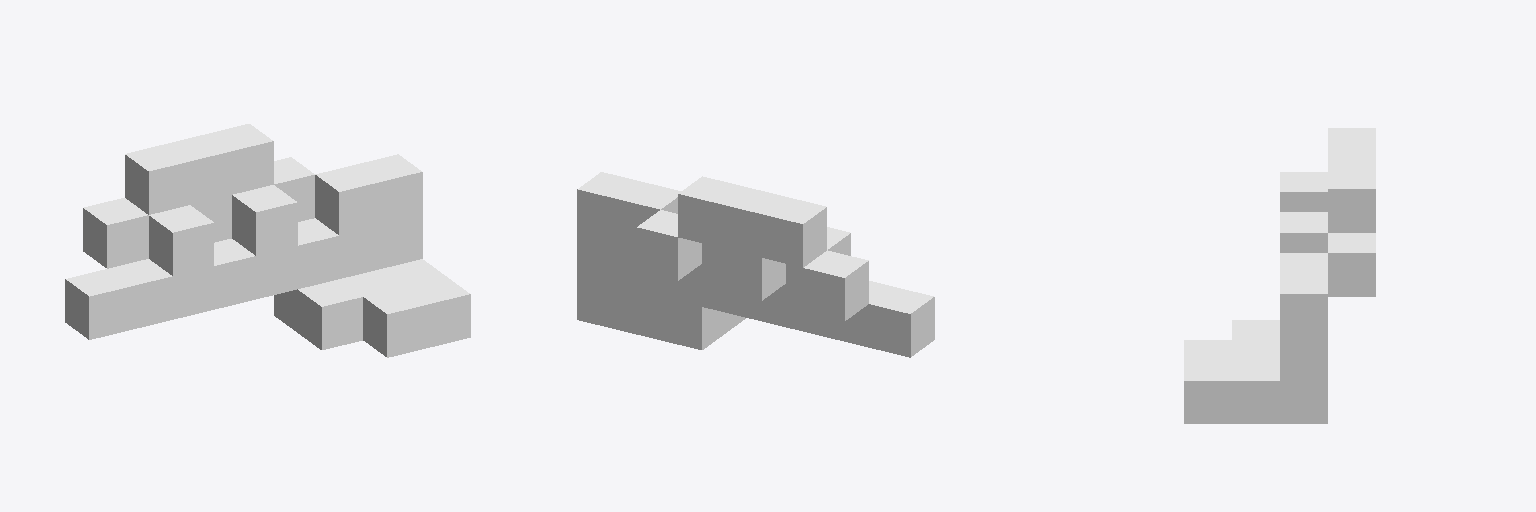
File: YellowHouseParts-82.obj
The picture shows the model from 3 angles: view 1: azimuth 30°, elevation 25°; view 2: azimuth 150°, elevation 25°; view 3: azimuth 270°, elevation 25°; orthographic projection.
Parts seen in each view (by area): view 1: object 1; view 2: object 1; view 3: object 1.
Boxes of the visible parts, box(x1,y1,x2,y2) form: object 1: box(65, 124, 470, 357); object 1: box(577, 172, 934, 357); object 1: box(1184, 128, 1375, 423).
Bounding box in the file's own units: 0.8 × 0.4 × 0.4.